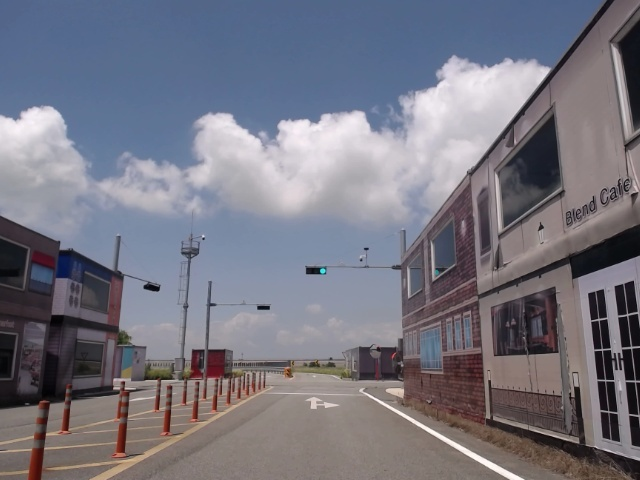green_3: (306, 267, 326, 274)
